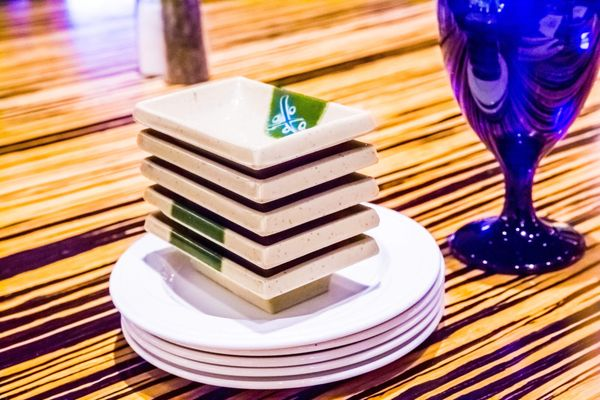curry: (28, 7, 599, 388)
pasta: (134, 75, 376, 176), (150, 137, 382, 207), (153, 170, 381, 241)
sandwich: (436, 0, 600, 275)
soup: (435, 1, 600, 275)
